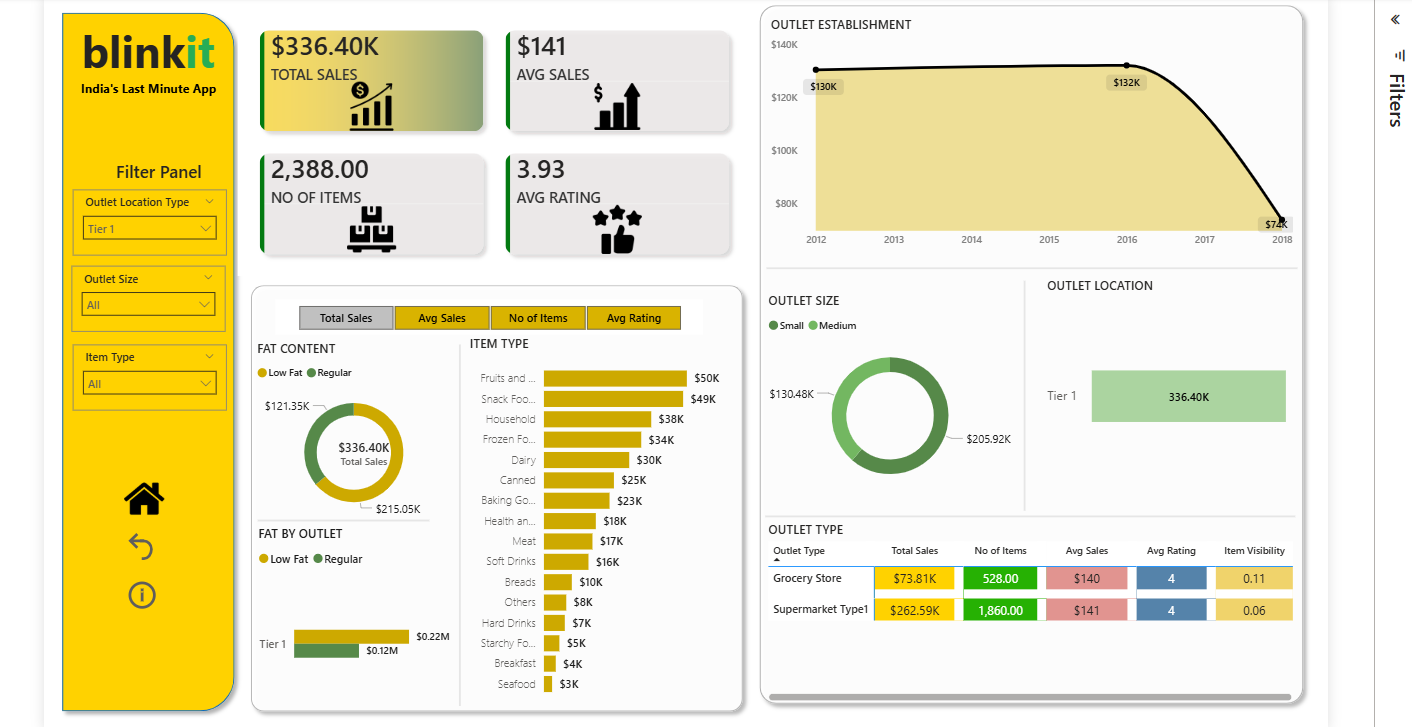

This screenshot's page, from the dashboard's own definition file:
{"tool":"powerbi","page":{"name":"Page 1","canvas":[1400,800],"ordinal":0},"visuals":[{"type":"shape","box":[10.9,8.2,205.9,779.8],"z":0},{"type":"textbox","box":[262.9,688.6,255.7,100],"z":1000},{"type":"textbox","box":[262.9,580,255.7,128.6],"z":2000},{"type":"textbox","box":[24.3,20,178.6,75.7],"z":3000},{"type":"textbox","box":[31.4,85.7,165.7,40],"z":4000},{"type":"cardVisual","fields":{"Data":["BlinkIT Grocery Data.Total Sales","BlinkIT Grocery Data.Avg Sales","BlinkIT Grocery Data.No of Items","BlinkIT Grocery Data.Avg Rating"]},"box":[211.3,12.3,560.3,293.1],"z":5000},{"type":"shape","box":[217.1,305.7,554.3,482.9],"z":6000},{"type":"donutChart","title":"FAT CONTENT","fields":{"Y":["BlinkIT Grocery Data.Total Sales"],"Category":["BlinkIT Grocery Data.Item Fat Content"]},"box":[227.7,373.6,220.9,201.8],"z":7000},{"type":"slicer","fields":{"Values":["Metrix.Metrix"]},"box":[251.7,330,466.7,38.3],"z":8000},{"type":"cardVisual","fields":{"Data":["BlinkIT Grocery Data.Total Sales"]},"box":[305.4,470.4,87.3,53.2],"z":9000},{"type":"clusteredBarChart","title":"FAT BY OUTLET","fields":{"Y":["BlinkIT Grocery Data.Total Sales"],"Category":["BlinkIT Grocery Data.Outlet Location Type"],"Series":["BlinkIT Grocery Data.Item Fat Content"]},"box":[229,575.3,219.5,208.6],"z":10000},{"type":"shape","box":[232.9,561.4,187.1,18.6],"z":11000},{"type":"shape","box":[447.1,378.6,12.9,394.3],"z":12000},{"type":"barChart","title":"ITEM TYPE","fields":{"Y":["BlinkIT Grocery Data.Total Sales"],"Category":["BlinkIT Grocery Data.Item Type"]},"box":[460,368.6,292.9,404.3],"z":13000},{"type":"shape","box":[771.6,0,610.8,779.8],"z":14000},{"type":"lineChart","title":"OUTLET ESTABLISHMENT","fields":{"Y":["BlinkIT Grocery Data.Total Sales"],"Category":["BlinkIT Grocery Data.Outlet Establishment Year"]},"box":[788,20.5,579.4,261.8],"z":15000},{"type":"shape","box":[788,286.3,579.4,19.1],"z":16000},{"type":"donutChart","title":"OUTLET SIZE","fields":{"Y":["BlinkIT Grocery Data.Total Sales"],"Category":["BlinkIT Grocery Data.Outlet Size"]},"box":[785.3,321.7,275.4,225],"z":17000},{"type":"shape","box":[1063.4,309.5,12.3,250.9],"z":18000},{"type":"funnel","title":"OUTLET LOCATION","fields":{"Y":["Sum(BlinkIT Grocery Data.Sales)"],"Category":["BlinkIT Grocery Data.Outlet Location Type"]},"box":[1089.3,305.4,275.4,241.3],"z":19000},{"type":"shape","box":[786.6,557.6,578.1,17.7],"z":20000},{"type":"pivotTable","title":"OUTLET TYPE","fields":{"Values":["BlinkIT Grocery Data.Total Sales","BlinkIT Grocery Data.No of Items","BlinkIT Grocery Data.Avg Sales","BlinkIT Grocery Data.Avg Rating","Avg(BlinkIT Grocery Data.Item Visibility)"],"Rows":["BlinkIT Grocery Data.Outlet Type"]},"box":[785.3,571.2,582.1,201.8],"z":21000},{"type":"slicer","fields":{"Values":["BlinkIT Grocery Data.Outlet Location Type"]},"box":[31.4,210,167.7,72.3],"z":22000},{"type":"slicer","fields":{"Values":["BlinkIT Grocery Data.Outlet Size"]},"box":[30,293.1,167.7,72.3],"z":23000},{"type":"slicer","fields":{"Values":["BlinkIT Grocery Data.Item Type"]},"box":[31.4,379,167.7,72.3],"z":24000},{"type":"textbox","box":[73.6,173.1,113.2,36.8],"z":25000},{"type":"actionButton","box":[85.2,579.8,45.7,39.6],"z":26000},{"type":"image","box":[86.7,523.5,44.1,47.2],"z":27000},{"type":"actionButton","box":[86.7,633,44.1,39.6],"z":28000}]}

Visuals, with their boxes on the page's 1400x800 design canvas (x1, y1, x2, y2). These are canvas units, not pixel positions in the 1412x727 screenshot, which may show the page scaled, cropped or inside an application window:
shape: l=11, t=8, r=217, b=788
textbox: l=263, t=689, r=519, b=789
textbox: l=263, t=580, r=519, b=709
textbox: l=24, t=20, r=203, b=96
textbox: l=31, t=86, r=197, b=126
cardVisual - BlinkIT Grocery Data.Total Sales x BlinkIT Grocery Data.Avg Sales: l=211, t=12, r=772, b=305
shape: l=217, t=306, r=771, b=789
"FAT CONTENT" donutChart: l=228, t=374, r=449, b=575
slicer - Metrix.Metrix: l=252, t=330, r=718, b=368
cardVisual - BlinkIT Grocery Data.Total Sales: l=305, t=470, r=393, b=524
"FAT BY OUTLET" clusteredBarChart: l=229, t=575, r=448, b=784
shape: l=233, t=561, r=420, b=580
shape: l=447, t=379, r=460, b=773
"ITEM TYPE" barChart: l=460, t=369, r=753, b=773
shape: l=772, t=0, r=1382, b=780
"OUTLET ESTABLISHMENT" lineChart: l=788, t=20, r=1367, b=282
shape: l=788, t=286, r=1367, b=305
"OUTLET SIZE" donutChart: l=785, t=322, r=1061, b=547
shape: l=1063, t=310, r=1076, b=560
"OUTLET LOCATION" funnel: l=1089, t=305, r=1365, b=547
shape: l=787, t=558, r=1365, b=575
"OUTLET TYPE" pivotTable: l=785, t=571, r=1367, b=773
slicer - BlinkIT Grocery Data.Outlet Location Type: l=31, t=210, r=199, b=282
slicer - BlinkIT Grocery Data.Outlet Size: l=30, t=293, r=198, b=365
slicer - BlinkIT Grocery Data.Item Type: l=31, t=379, r=199, b=451
textbox: l=74, t=173, r=187, b=210
actionButton: l=85, t=580, r=131, b=619
image: l=87, t=524, r=131, b=571
actionButton: l=87, t=633, r=131, b=673
